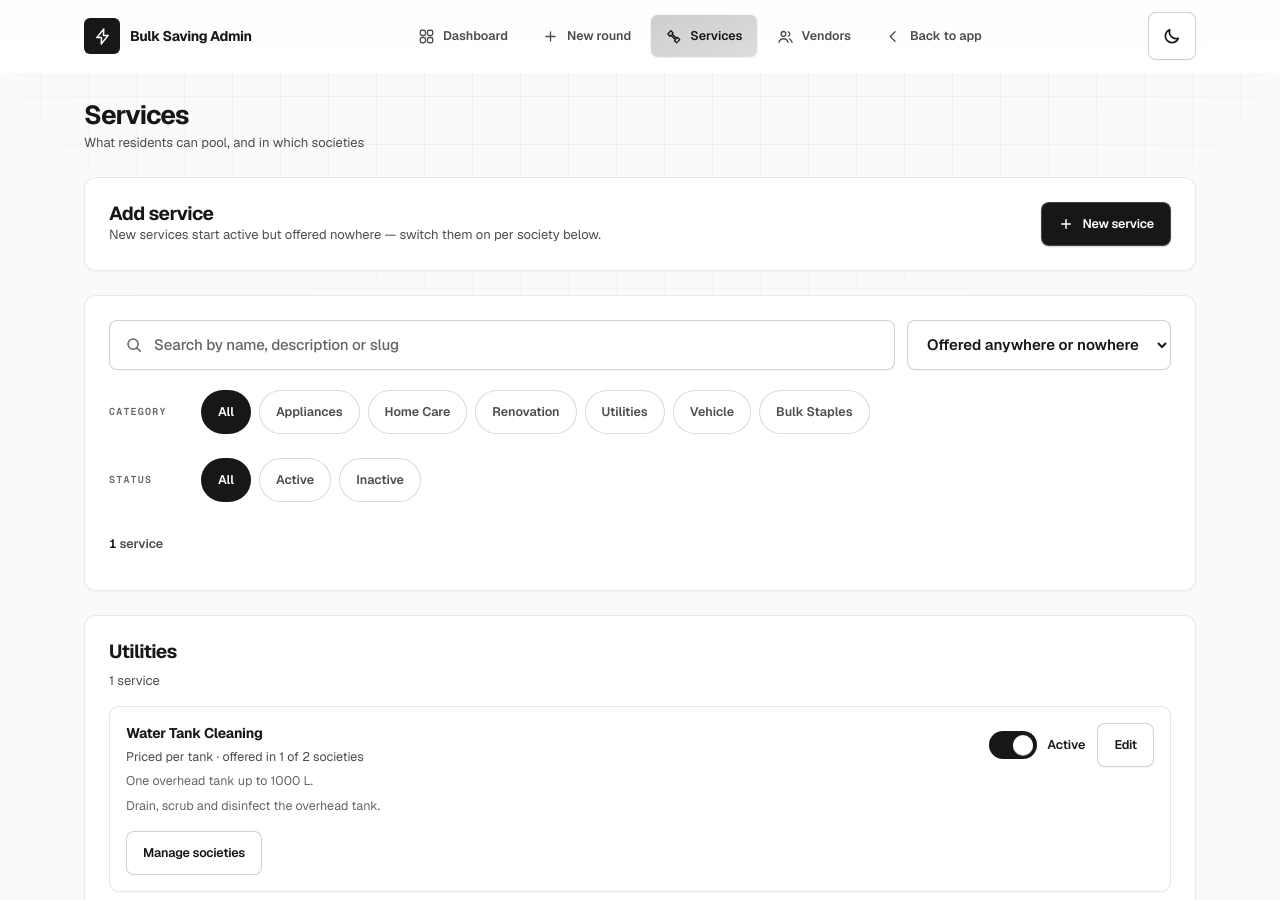
Test case: AdminServicesPage › refuses a price that is not whole rupees, and sends nothing
Click the button "Manage societies" at (194,853), box [126,831,262,875]
(page scrolled)
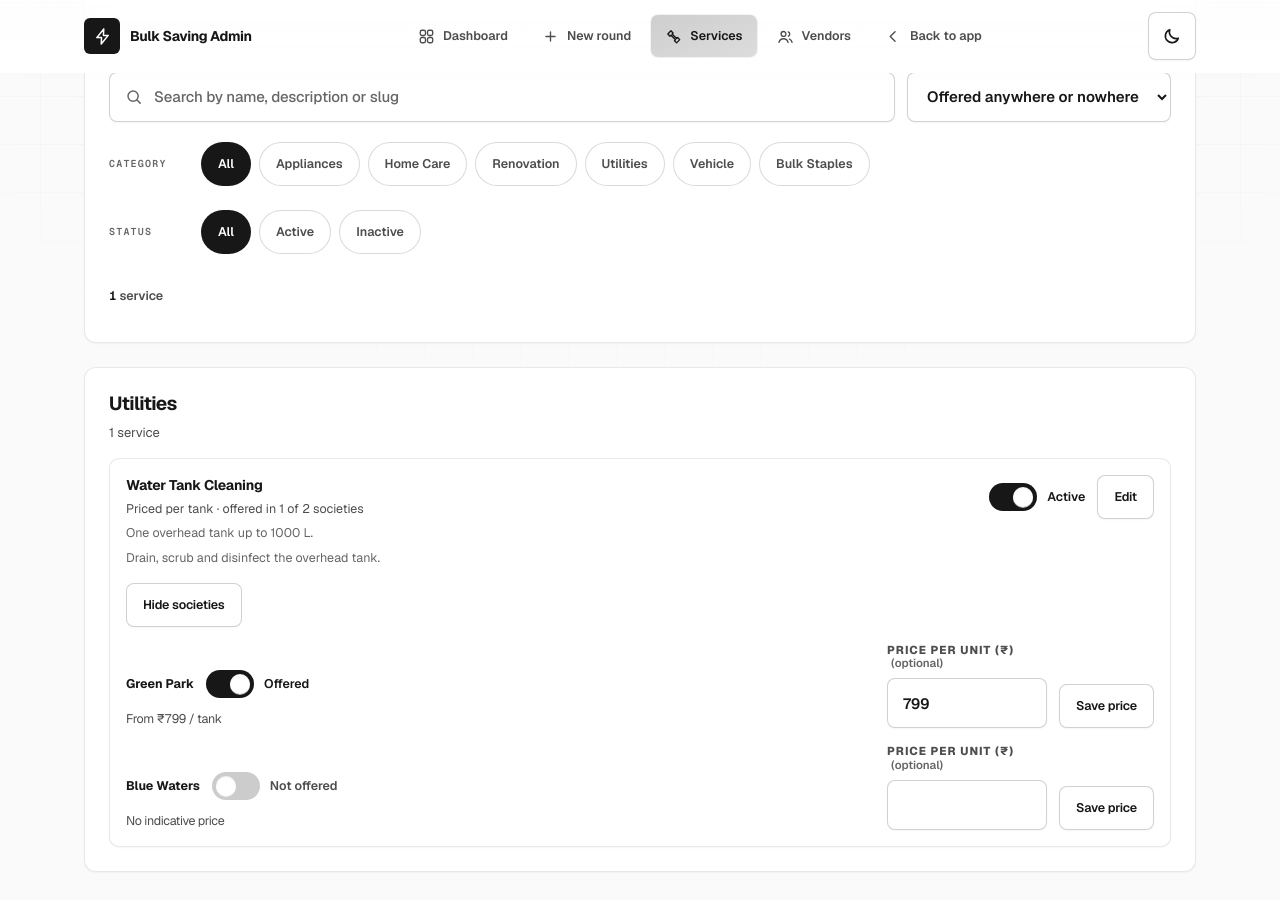
Type "12.50" into the field labelled "Price per unit (₹)(optional)" in the row of "No indicative price" at (967,805), box [887,780,1047,830]
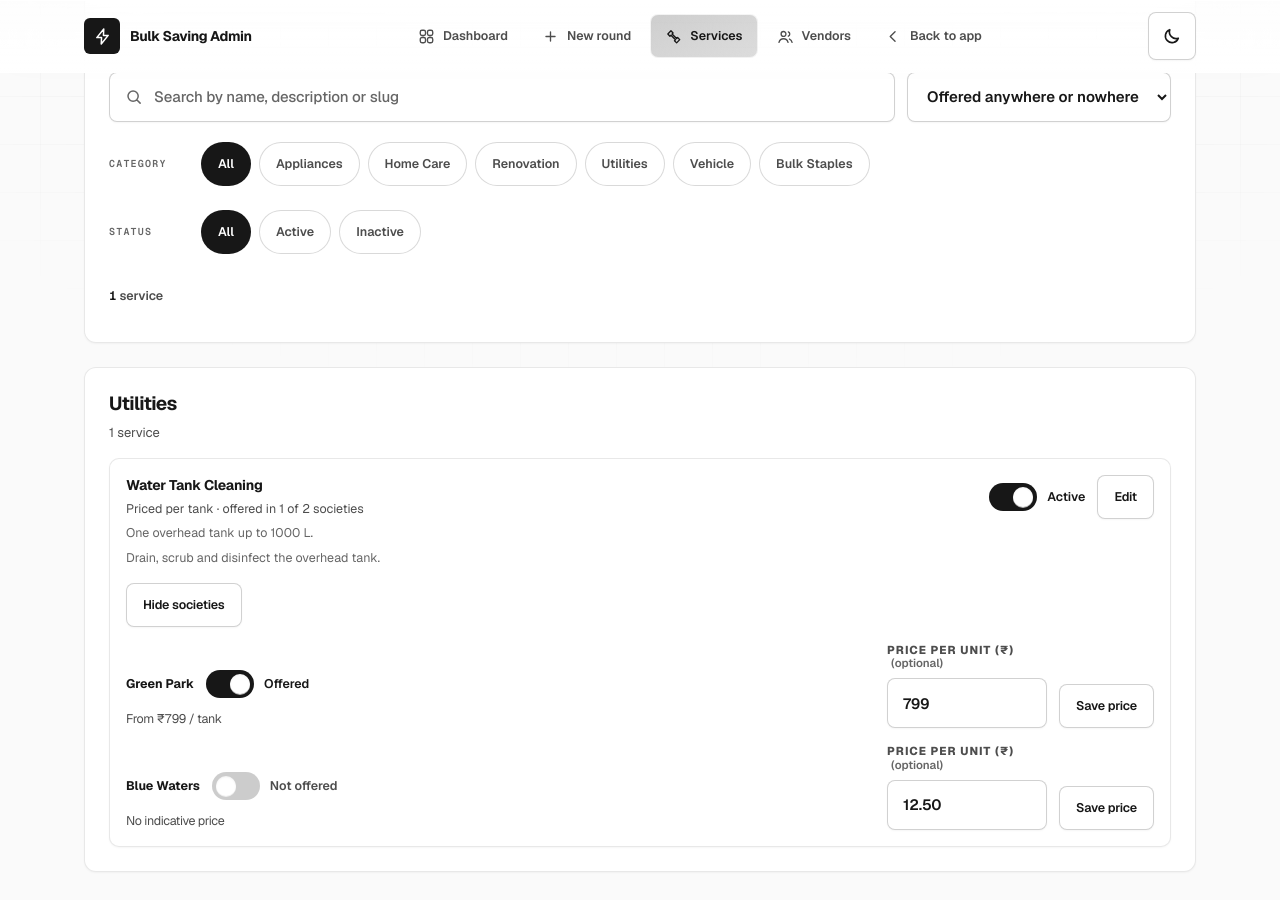
Click the switch named "Offer Water Tank Cleaning in Blue Waters" at (275,786), box [212,764,338,808]
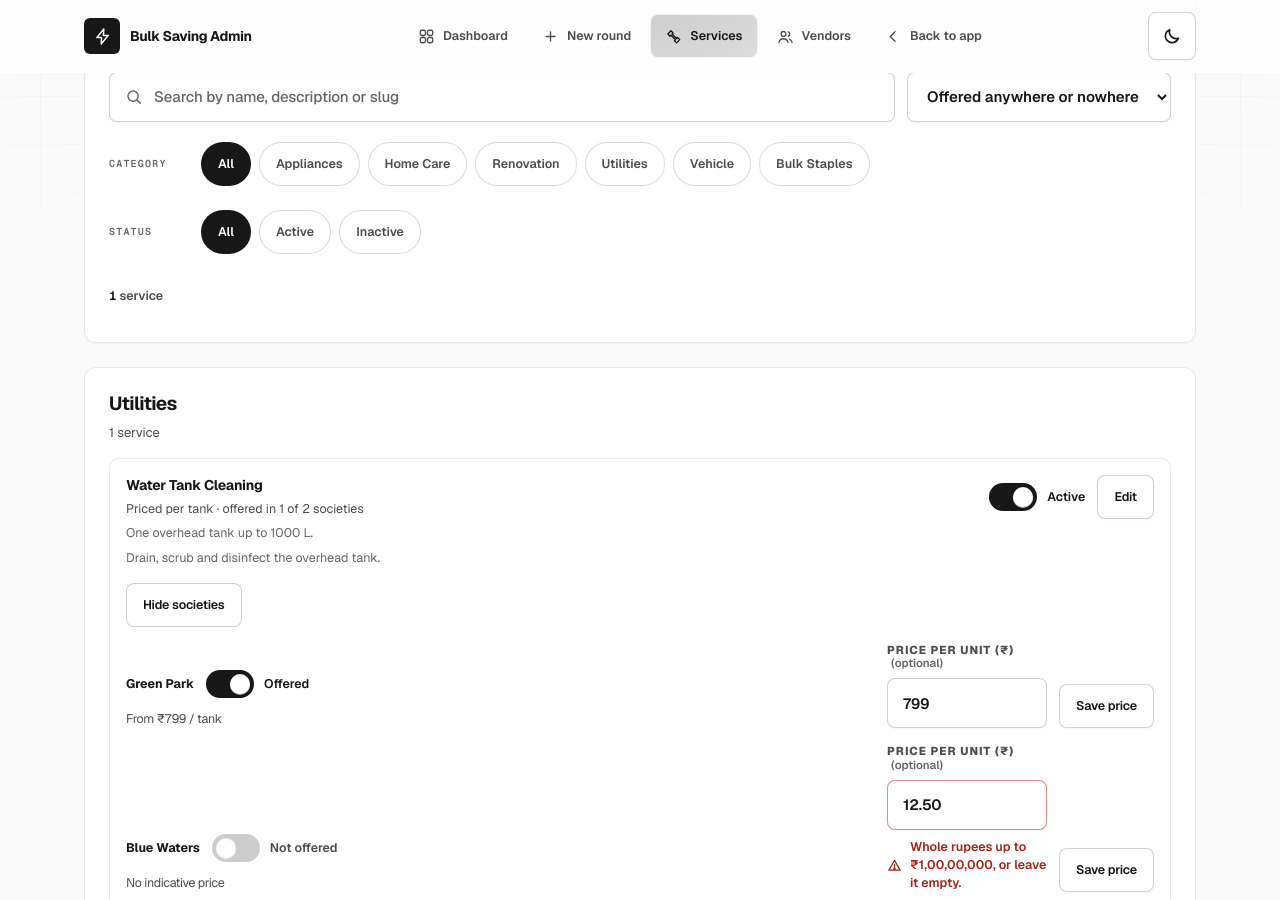
Result: the text "Whole rupees up to ₹1,00,00,000, or leave it empty." is shown at [887,838,1047,892]
